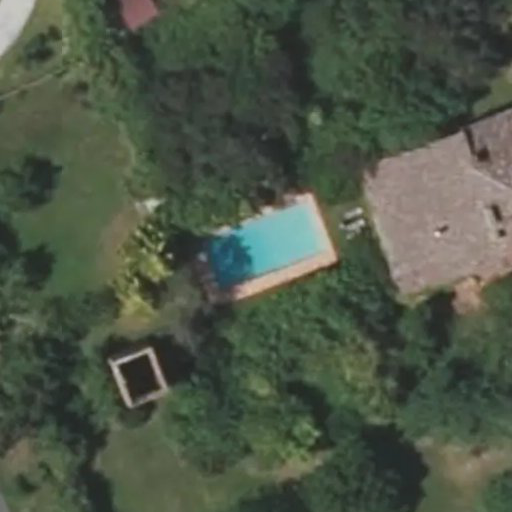pool: (184, 230, 329, 253)
